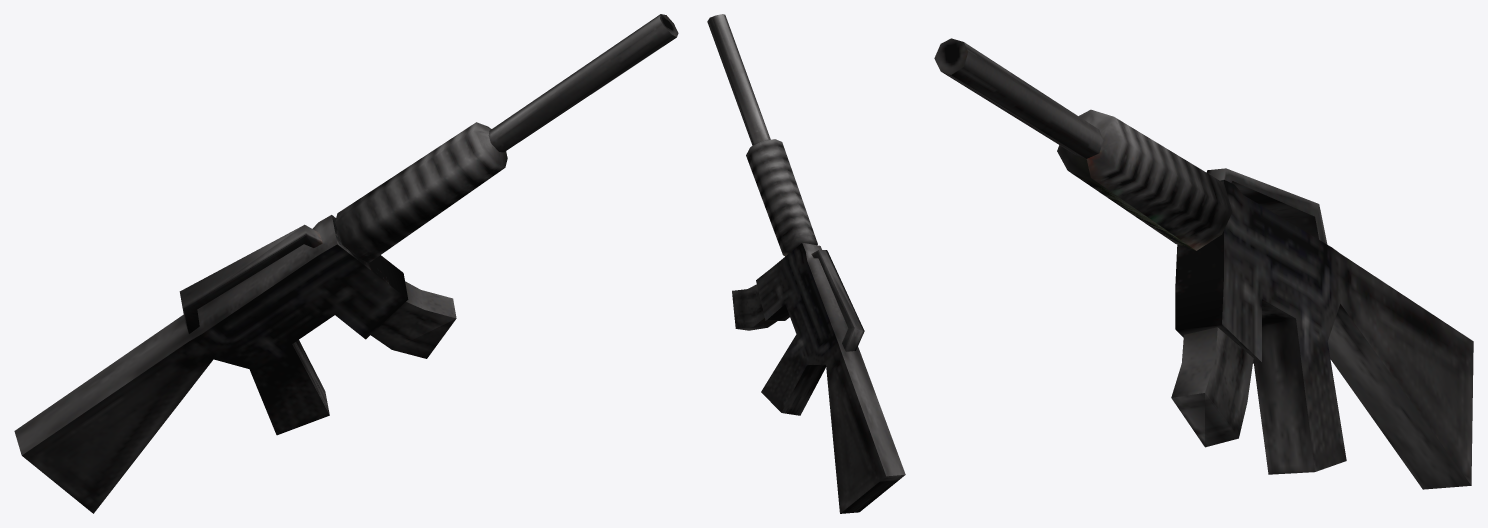
The model's file is poss_weapon.obj.
3 renders of one model, left to right at view 1: azimuth 30°, elevation 25°; view 2: azimuth 150°, elevation 25°; view 3: azimuth 270°, elevation 25°, orthographic. The views are drawn at different scales.
Parts seen in each view (by area): view 1: Group; view 2: Group; view 3: Group.
Boxes of the visible parts, x1=… form: Group: x1=14, y1=14, x2=678, y2=513; Group: x1=707, y1=14, x2=905, y2=513; Group: x1=934, y1=38, x2=1473, y2=489.
Size of the model in its own units: 22.39 by 23.86 by 16.66.
1 material, 1 textured.
